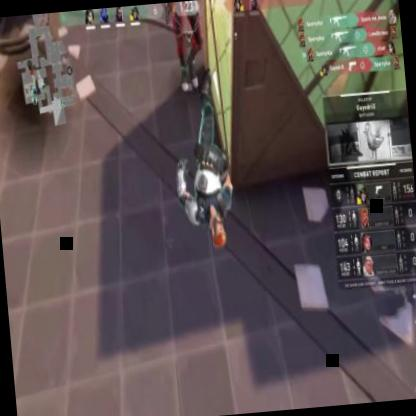enemy: (163, 0, 207, 93)
